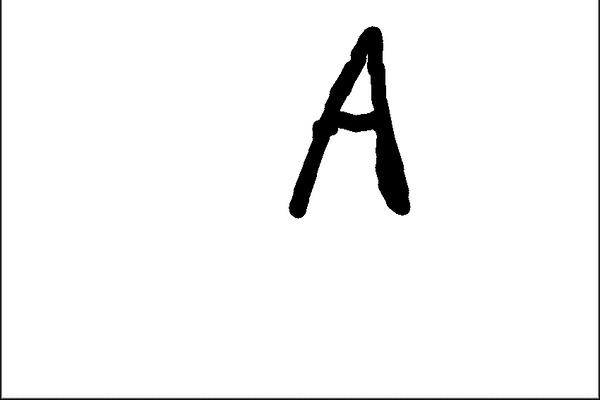A: (264, 14, 425, 235)
